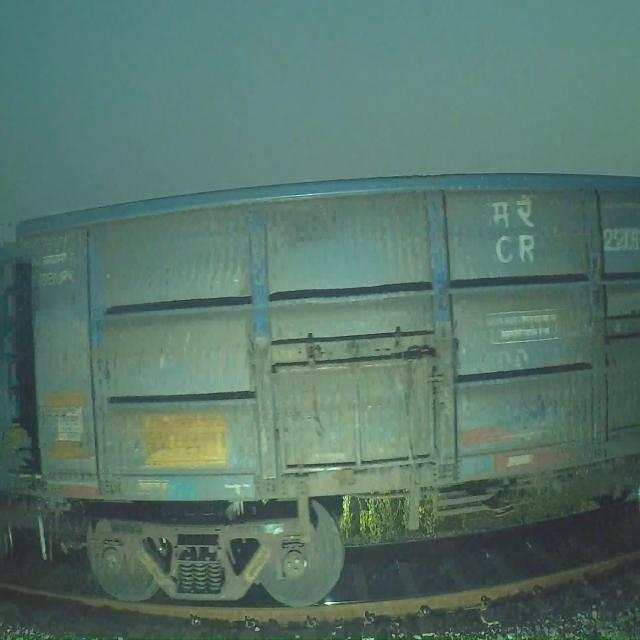WAgon-uic: (13, 165, 640, 610), (0, 233, 70, 572)
uic: (597, 221, 640, 258)
